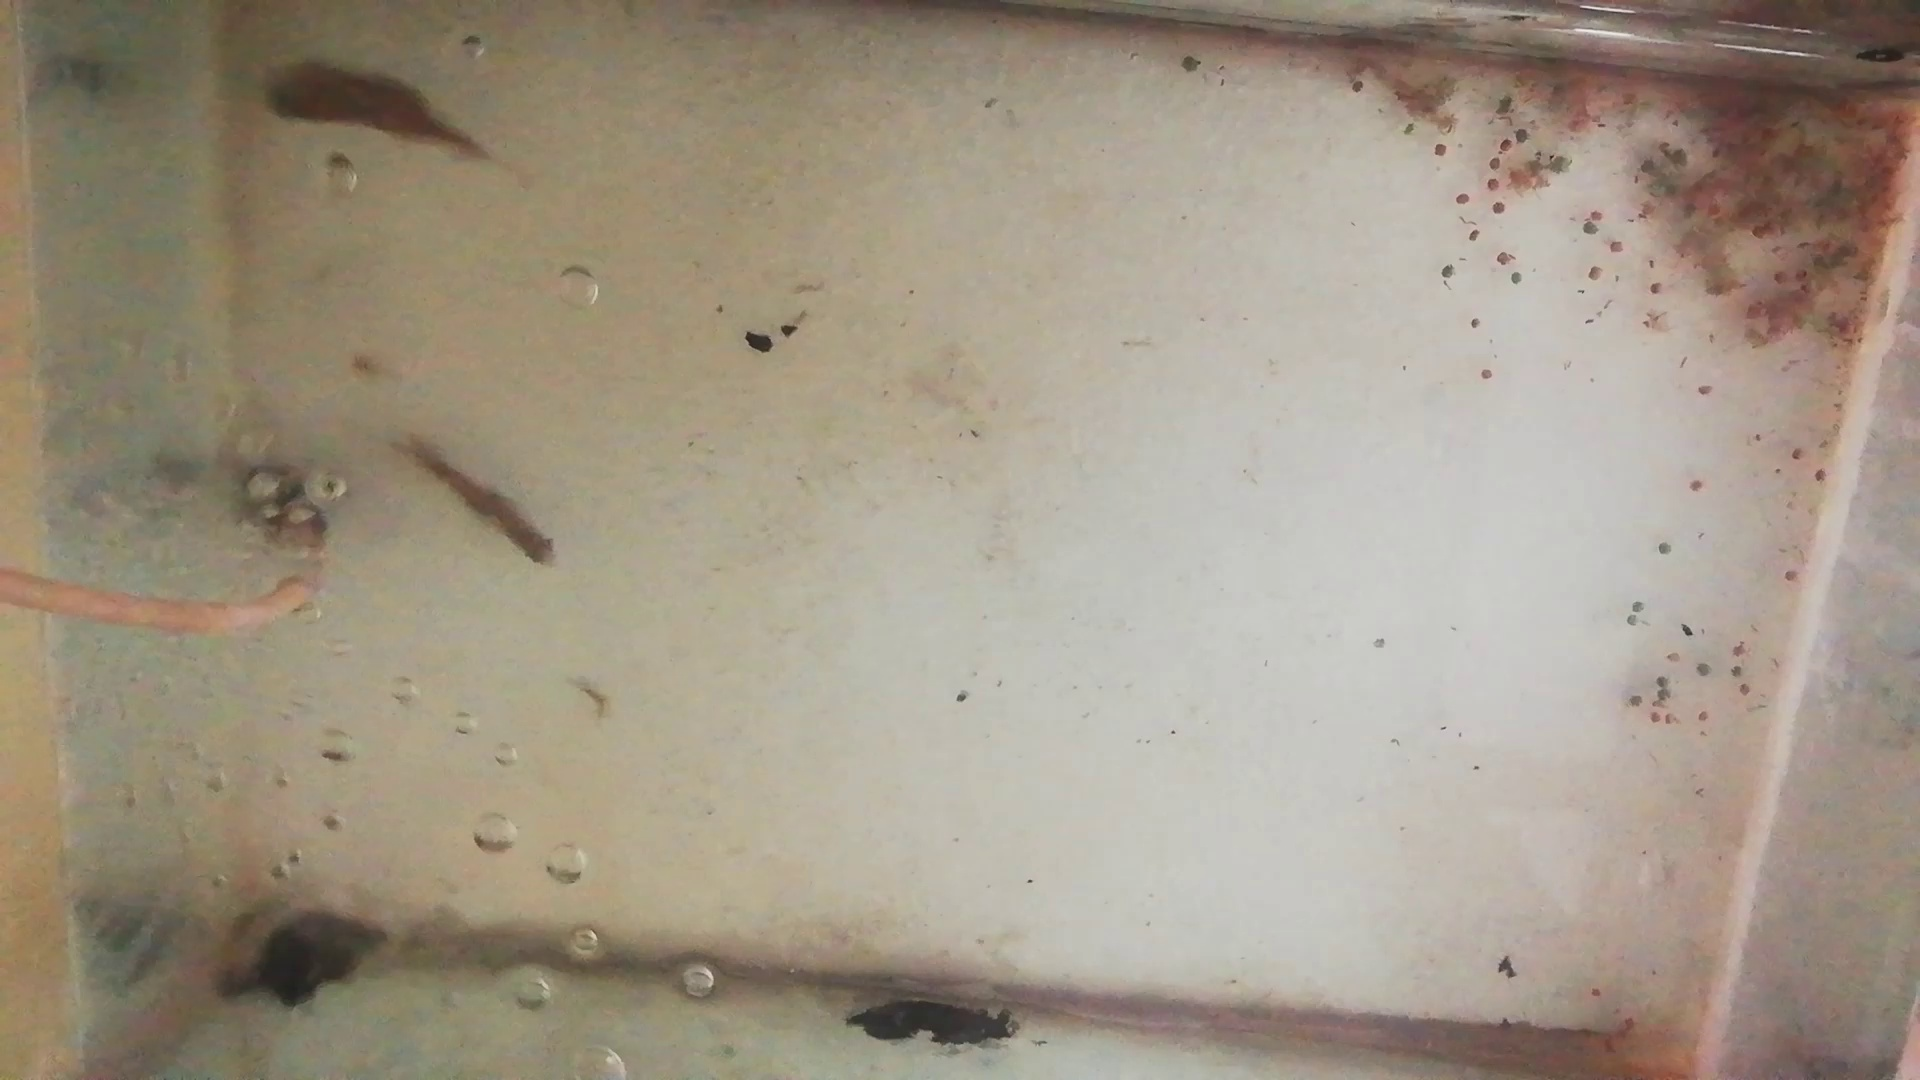fish: (261, 63, 487, 162), (396, 440, 560, 570)
